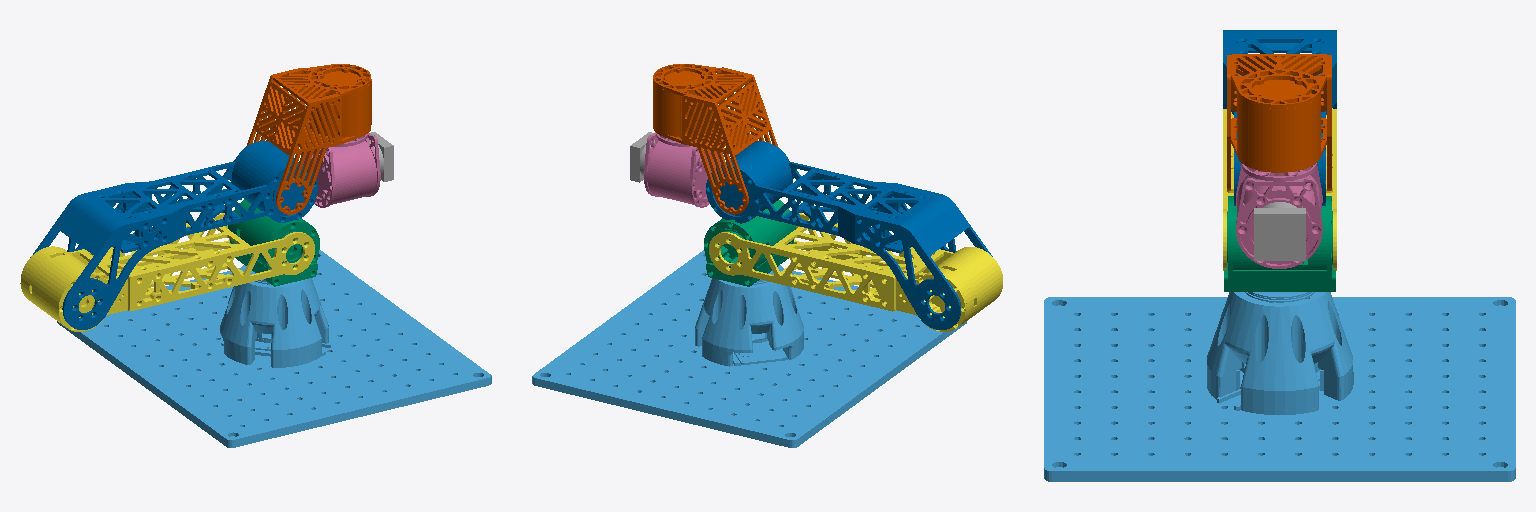
The robot description file, URDF, robot "swing_boy_pro":
<?xml version="1.0" ?>
<!-- =================================================================================== -->
<!-- |    This document was autogenerated by xacro from swing_boy_pro.urdf.xacro       | -->
<!-- |    EDITING THIS FILE BY HAND IS NOT RECOMMENDED                                 | -->
<!-- =================================================================================== -->
<robot name="swing_boy_pro">
  <gazebo>
    <plugin filename="libarm_robot_hw_sim.so" name="arm_ros_control">
      <robotNamespace>/</robotNamespace>
      <robotSimType>arm_gazebo/ArmRobotHWSim</robotSimType>
    </plugin>
  </gazebo>
  <link name="world"/>
  <link name="base_link">
    <visual>
      <origin rpy="0 0 0" xyz="0 0 0"/>
      <geometry>
        <mesh filename="package://swing_boy_pro/meshes/base_link.stl" scale="0.001 0.001 0.001"/>
      </geometry>
    </visual>
    <collision>
      <origin rpy="0 0 0" xyz="0. 0. 0."/>
      <geometry>
        <mesh filename="package://swing_boy_pro/meshes/base_link.stl" scale="0.001 0.001 0.001"/>
      </geometry>
    </collision>
    <inertial>
      <mass value="6.745707"/>
      <origin xyz="1e-05 6e-06 0.012902"/>
      <inertia ixx="0.004965" ixy="-4.88379e-07" ixz="-2.414355e-06" iyy="0.003883" iyz="6.02506e-07" izz="0.008305"/>
    </inertial>
  </link>
  <joint name="fixed_base" type="fixed">
    <parent link="world"/>
    <child link="base_link"/>
    <origin rpy="0 0 0" xyz="0 0 0"/>
  </joint>
  <link name="link1">
    <visual>
      <origin rpy="0 0 0" xyz="0 0 0"/>
      <geometry>
        <mesh filename="package://swing_boy_pro/meshes/link1.stl" scale="0.001 0.001 0.001"/>
      </geometry>
    </visual>
    <collision>
      <origin rpy="0 0 0" xyz="0. 0. 0."/>
      <geometry>
        <mesh filename="package://swing_boy_pro/meshes/link1.stl" scale="0.001 0.001 0.001"/>
      </geometry>
    </collision>
    <inertial>
      <mass value="1.104255"/>
      <origin xyz="-1.387e-08 -0.00539 0.034696"/>
      <inertia ixx="0.0005716" ixy="3.45e-10" ixz="-2.1e-10" iyy="0.0004949" iyz="1.2124841e-05" izz="0.0005383"/>
    </inertial>
  </link>
  <link name="link2">
    <visual>
      <origin rpy="0 0 0" xyz="0 0 0"/>
      <geometry>
        <mesh filename="package://swing_boy_pro/meshes/link2.stl" scale="0.001 0.001 0.001"/>
      </geometry>
    </visual>
    <collision>
      <origin rpy="0 0 0" xyz="0 0. 0."/>
      <geometry>
        <mesh filename="package://swing_boy_pro/meshes/link2.stl" scale="0.001 0.001 0.001"/>
      </geometry>
    </collision>
    <inertial>
      <mass value="1.160947"/>
      <origin xyz="-0.20817 -0.005107 2e-06"/>
      <inertia ixx="0.0006399" ixy="-7.1576468e-08" ixz="-1.87622e-07" iyy="0.002117" iyz="-3.764e-09" izz="0.002288"/>
    </inertial>
  </link>
  <link name="link3">
    <visual>
      <origin rpy="0 0 0" xyz="0 0 0"/>
      <geometry>
        <mesh filename="package://swing_boy_pro/meshes/link3.stl" scale="0.001 0.001 0.001"/>
      </geometry>
    </visual>
    <collision>
      <origin rpy="0 0 0" xyz="0. 0. 0."/>
      <geometry>
        <mesh filename="package://swing_boy_pro/meshes/link3.stl" scale="0.001 0.001 0.001"/>
      </geometry>
    </collision>
    <inertial>
      <mass value="1.039804"/>
      <origin xyz="0.203481 -0.004344 0.056027"/>
      <inertia ixx="0.0005525" ixy="5.4862049e-05" ixz="-0.0001962" iyy="0.002964" iyz="6.479863e-06" izz="0.003004"/>
    </inertial>
  </link>
  <link name="link4">
    <visual>
      <origin rpy="0 0 0" xyz="0 0 0"/>
      <geometry>
        <mesh filename="package://swing_boy_pro/meshes/link4.stl" scale="0.001 0.001 0.001"/>
      </geometry>
    </visual>
    <collision>
      <origin rpy="0 0 0" xyz="0. 0. 0."/>
      <geometry>
        <mesh filename="package://swing_boy_pro/meshes/link4.stl" scale="0.001 0.001 0.001"/>
      </geometry>
    </collision>
    <inertial>
      <mass value="1.039804"/>
      <origin xyz="0.203481 -0.004344 0.056027"/>
      <inertia ixx="0.0005525" ixy="5.4862049e-05" ixz="-0.0001962" iyy="0.002964" iyz="6.479863e-06" izz="0.003004"/>
    </inertial>
  </link>
  <link name="link5">
    <visual>
      <origin rpy="0 0 0" xyz="0 0 0"/>
      <geometry>
        <mesh filename="package://swing_boy_pro/meshes/link5.stl" scale="0.001 0.001 0.001"/>
      </geometry>
    </visual>
    <collision>
      <origin rpy="0 0 0" xyz="0 0. 0."/>
      <geometry>
        <mesh filename="package://swing_boy_pro/meshes/link5.stl" scale="0.001 0.001 0.001"/>
      </geometry>
    </collision>
    <inertial>
      <mass value="0.863936"/>
      <origin xyz="0.001398 -4.86e-07 -0.04159"/>
      <inertia ixx="0.0003602" ixy="2.15715e-07" ixz="1.365425e-06" iyy="0.0003218" iyz="-2.37584e-07" izz="0.0003117"/>
    </inertial>
  </link>
  <link name="link6">
    <visual>
      <origin rpy="0 0 0" xyz="0 0 0"/>
      <geometry>
        <mesh filename="package://swing_boy_pro/meshes/link6.stl" scale="0.001 0.001 0.001"/>
      </geometry>
    </visual>
    <collision>
      <origin rpy="0 0 0" xyz="0. 0. 0."/>
      <geometry>
        <mesh filename="package://swing_boy_pro/meshes/link6.stl" scale="0.001 0.001 0.001"/>
      </geometry>
    </collision>
    <inertial>
      <mass value="0.030595"/>
      <origin xyz="0.015 1.83e-12 0.0"/>
      <inertia ixx="4.684887e-06" ixy="0.0" ixz="0.0" iyy="4.637082e-06" iyz="0.0" izz="4.637083e-06"/>
    </inertial>
  </link>
  <joint name="joint1" type="revolute">
    <parent link="base_link"/>
    <child link="link1"/>
    <origin rpy="0 0 0" xyz="0.0 0.0 0.08125"/>
    <axis xyz="0 0 1"/>
    <limit effort="15" lower="-3.14" upper="3.14" velocity="10"/>
  </joint>
  <joint name="joint2" type="revolute">
    <parent link="link1"/>
    <child link="link2"/>
    <origin rpy="0 0 0" xyz="0.0 0.0 0.0345"/>
    <axis xyz="0 1 0"/>
    <limit effort="15" lower="-3.14" upper="3.14" velocity="10"/>
  </joint>
  <joint name="joint3" type="revolute">
    <parent link="link2"/>
    <child link="link3"/>
    <origin rpy="0 0 0" xyz="-0.22 0.0 0.0"/>
    <axis xyz="0 1 0"/>
    <limit effort="15" lower="-3.14" upper="3.14" velocity="10"/>
  </joint>
  <joint name="joint4" type="revolute">
    <parent link="link3"/>
    <child link="link4"/>
    <origin rpy="0 0 0" xyz="0.22 0.0 0.0565"/>
    <axis xyz="0 1 0"/>
    <limit effort="8" lower="-3.14" upper="3.14" velocity="10"/>
  </joint>
  <joint name="joint5" type="revolute">
    <parent link="link4"/>
    <child link="link5"/>
    <origin rpy="0 0 0" xyz="0.07 0 0.038"/>
    <axis xyz="0 0 1"/>
    <limit effort="8" lower="-3.14" upper="3.14" velocity="10"/>
  </joint>
  <joint name="joint6" type="revolute">
    <parent link="link5"/>
    <child link="link6"/>
    <origin rpy="0 0 0" xyz="0.0265 0.0 -0.038"/>
    <axis xyz="1 0 0"/>
    <limit effort="8" lower="-3.14" upper="3.14" velocity="10"/>
  </joint>
  <link name="EE"/>
  <joint name="EE_fixed" type="fixed">
    <parent link="link6"/>
    <child link="EE"/>
    <origin rpy="0 0 0" xyz="0.2 0 0.035"/>
  </joint>
  <transmission name="trans_joint1">
    <type>transmission_interface/SimpleTransmission</type>
    <actuator name="joint1_motor">
      <mechanicalReduction>1</mechanicalReduction>
    </actuator>
    <joint name="joint1">
      <hardwareInterface>hardware_interface/EffortJointInterface</hardwareInterface>
    </joint>
  </transmission>
  <transmission name="trans_joint2">
    <type>transmission_interface/SimpleTransmission</type>
    <actuator name="joint2_motor">
      <mechanicalReduction>1</mechanicalReduction>
    </actuator>
    <joint name="joint2">
      <hardwareInterface>hardware_interface/EffortJointInterface</hardwareInterface>
    </joint>
  </transmission>
  <transmission name="trans_joint3">
    <type>transmission_interface/SimpleTransmission</type>
    <actuator name="joint3_motor">
      <mechanicalReduction>1</mechanicalReduction>
    </actuator>
    <joint name="joint3">
      <hardwareInterface>hardware_interface/EffortJointInterface</hardwareInterface>
    </joint>
  </transmission>
  <transmission name="trans_joint4">
    <type>transmission_interface/SimpleTransmission</type>
    <actuator name="joint4_motor">
      <mechanicalReduction>1</mechanicalReduction>
    </actuator>
    <joint name="joint4">
      <hardwareInterface>hardware_interface/EffortJointInterface</hardwareInterface>
    </joint>
  </transmission>
  <transmission name="trans_joint5">
    <type>transmission_interface/SimpleTransmission</type>
    <actuator name="joint5_motor">
      <mechanicalReduction>1</mechanicalReduction>
    </actuator>
    <joint name="joint5">
      <hardwareInterface>hardware_interface/EffortJointInterface</hardwareInterface>
    </joint>
  </transmission>
  <transmission name="trans_joint6">
    <type>transmission_interface/SimpleTransmission</type>
    <actuator name="joint6_motor">
      <mechanicalReduction>1</mechanicalReduction>
    </actuator>
    <joint name="joint6">
      <hardwareInterface>hardware_interface/EffortJointInterface</hardwareInterface>
    </joint>
  </transmission>
  <!--        <transmission name="trans_EE">-->
  <!--            <type>transmission_interface/SimpleTransmission</type>-->
  <!--            <actuator name="EE_joint_motor">-->
  <!--                <mechanicalReduction>-1</mechanicalReduction>-->
  <!--            </actuator>-->
  <!--            <joint name="EE_joint">-->
  <!--                <hardwareInterface>hardware_interface/EffortJointInterface</hardwareInterface>-->
  <!--            </joint>-->
  <!--        </transmission>-->
</robot>

--- Render facts (derived) ---
The picture shows the robot from 3 angles, left to right: view 1: azimuth 30°, elevation 25°; view 2: azimuth 150°, elevation 25°; view 3: azimuth 270°, elevation 25°; orthographic projection.
Model swing_boy_pro with 9 links and 8 joints (6 revolute, 2 fixed), rooted at world, posed every joint at zero.
Links seen in each view (by area): view 1: base_link, link3, link2, link4, link5, link1, link6; view 2: base_link, link3, link2, link4, link5, link1, link6; view 3: base_link, link4, link5, link1, link3, link6, link2.
Boxes of the visible links, x1=… form: base_link: x1=57, y1=250, x2=491, y2=447; link3: x1=30, y1=141, x2=317, y2=329; link2: x1=20, y1=210, x2=314, y2=331; link4: x1=246, y1=64, x2=371, y2=214; link5: x1=301, y1=133, x2=380, y2=207; link1: x1=228, y1=199, x2=319, y2=286; link6: x1=369, y1=132, x2=393, y2=181; base_link: x1=532, y1=250, x2=966, y2=447; link3: x1=706, y1=141, x2=992, y2=329; link2: x1=709, y1=213, x2=1002, y2=331; link4: x1=653, y1=64, x2=778, y2=214; link5: x1=644, y1=132, x2=723, y2=207; link1: x1=704, y1=200, x2=795, y2=286; link6: x1=630, y1=132, x2=655, y2=182; base_link: x1=1044, y1=292, x2=1515, y2=481; link4: x1=1227, y1=54, x2=1331, y2=190; link5: x1=1236, y1=163, x2=1322, y2=268; link1: x1=1224, y1=196, x2=1335, y2=291; link3: x1=1223, y1=30, x2=1336, y2=205; link6: x1=1254, y1=202, x2=1305, y2=260; link2: x1=1223, y1=108, x2=1336, y2=270.
Size in the robot's own frame: 0.3885 by 0.32 by 0.2632 metres.
Meshes: 7 distinct files referenced, 7 mesh visuals loaded (7 binary STL).
